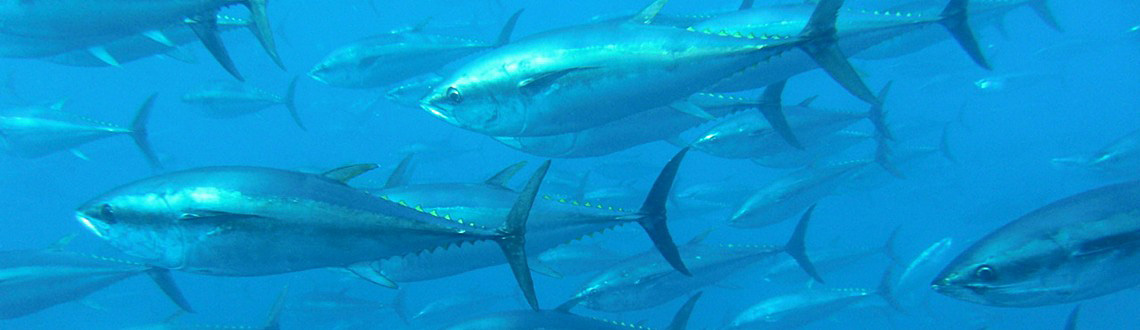Bluefina Tuna: (63, 158, 557, 310), (428, 24, 872, 138)
